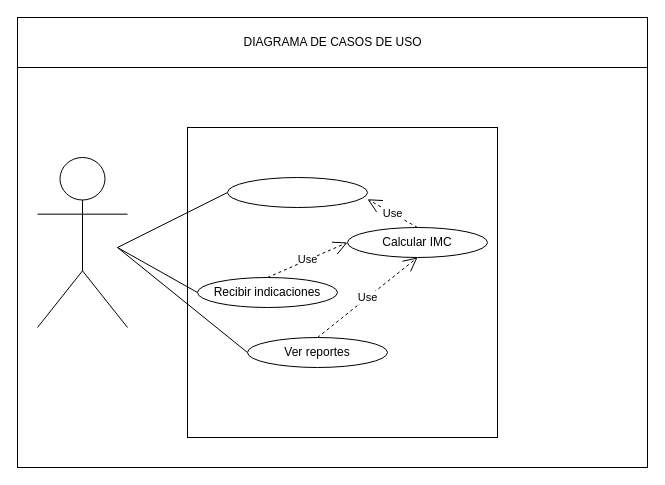
The diagram is 665 pixels wide and 485 high, and some of its shapes have lost their labels. The centre of each missing label's shape, as x and y in pixels:
"Actor" goes at pixel 82 242.
"Ingresar Datos" goes at pixel 297 192.
